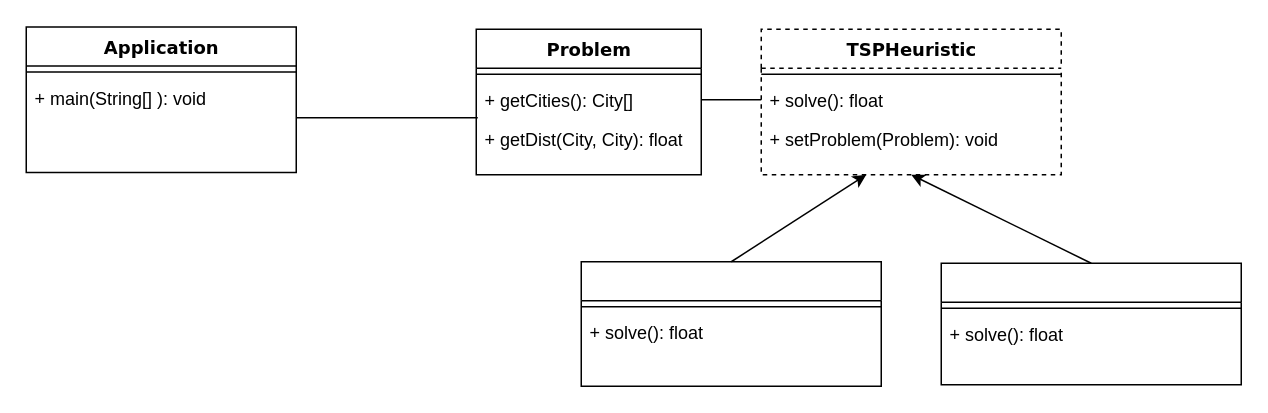
This 1268x413 diagram has some shape labels left out. Each missing label, with the box of its shape:
NearestNeighbour: (580, 260, 881, 386)
TwoOpt: (940, 262, 1241, 385)
